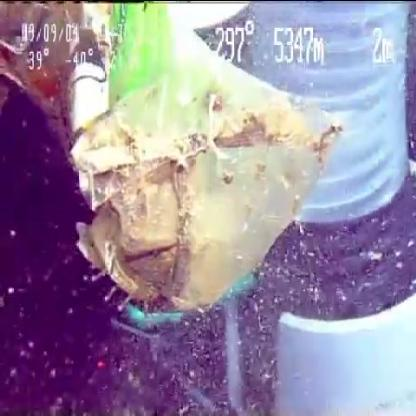Rác: (1, 1, 352, 327)
